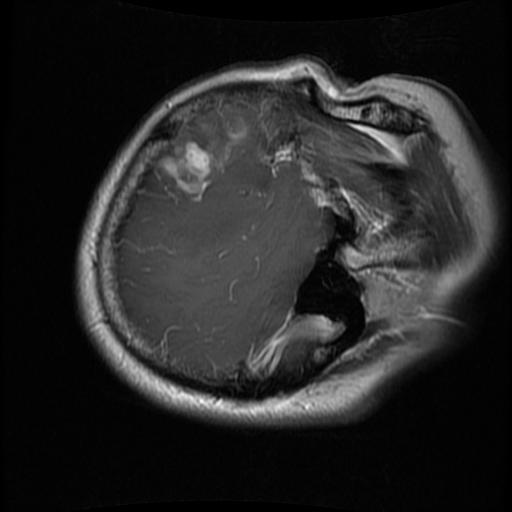glioma: (152, 140, 211, 205)
